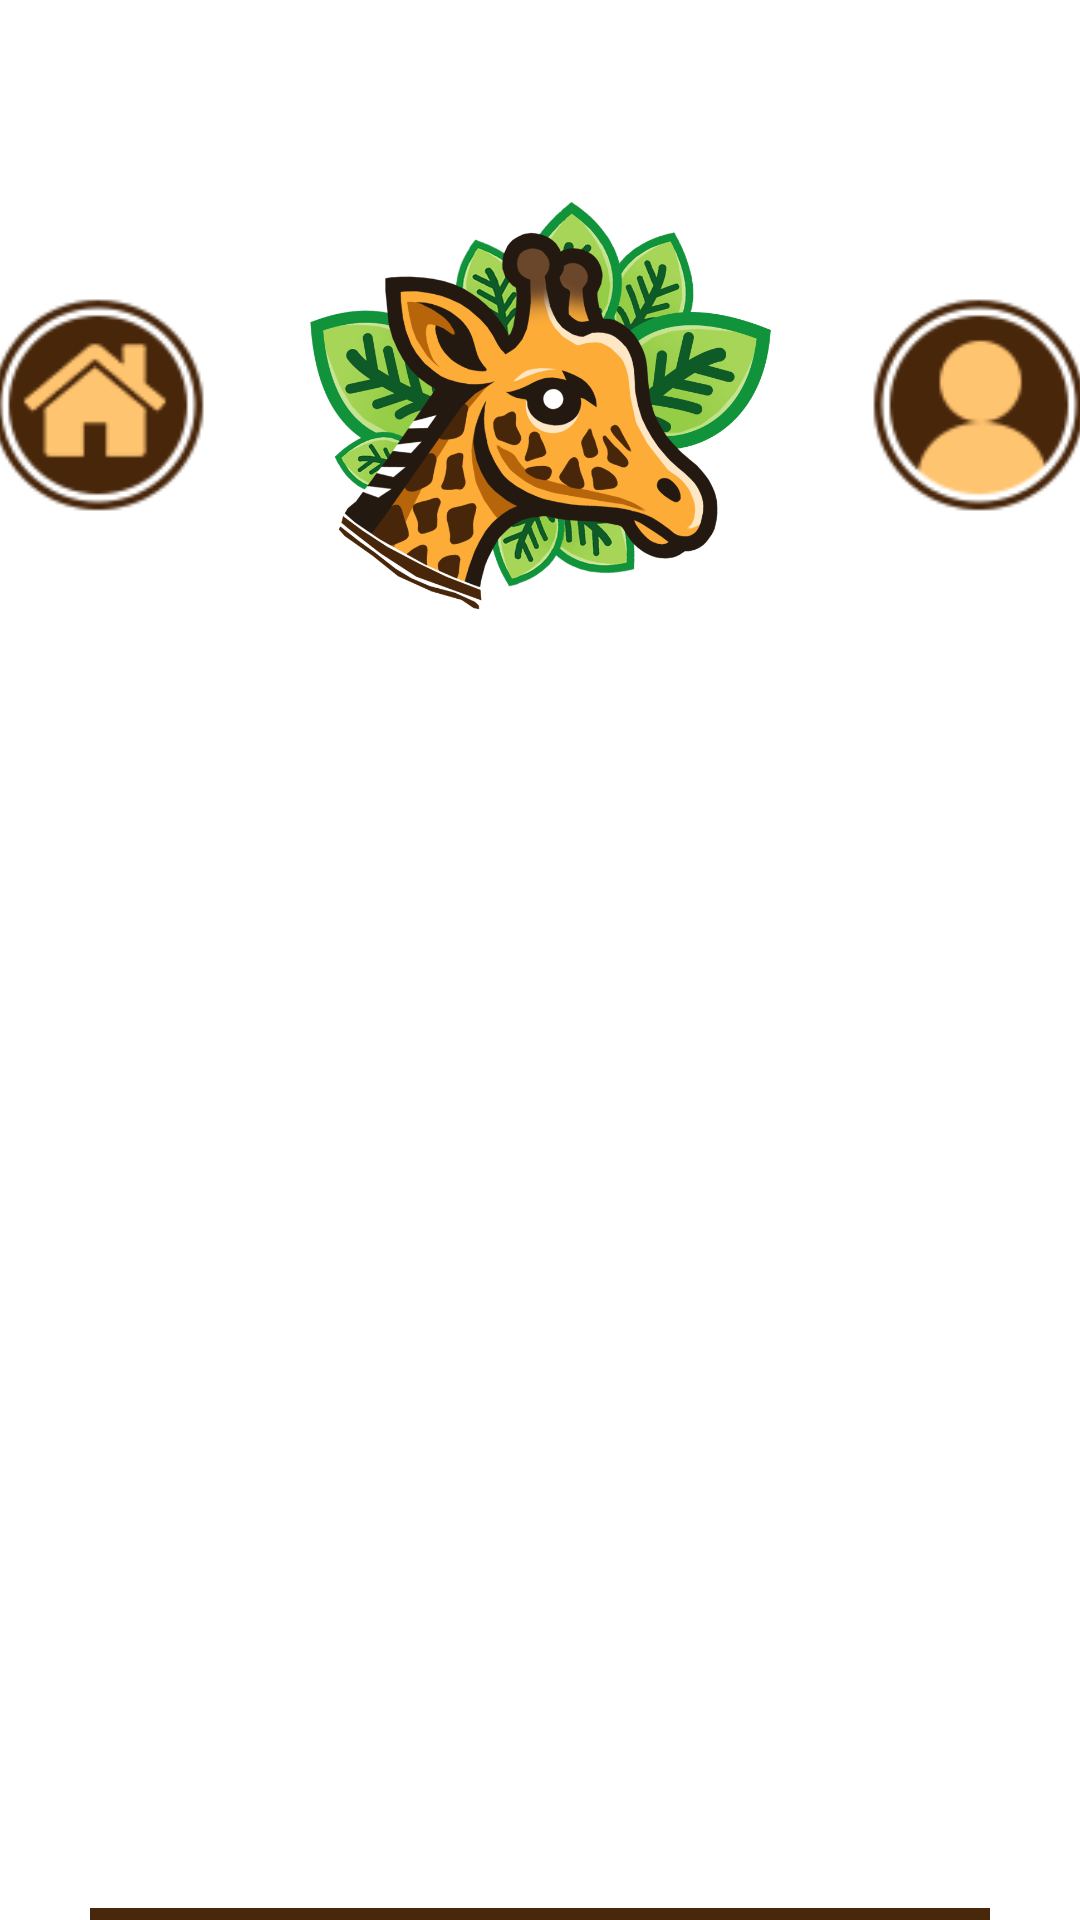

Locate icon controls on the screen. Image size 1080×1920, boxes as (x1, y1, x2, y2).
Home: (0, 299, 204, 511)
User: (873, 299, 1080, 511)
